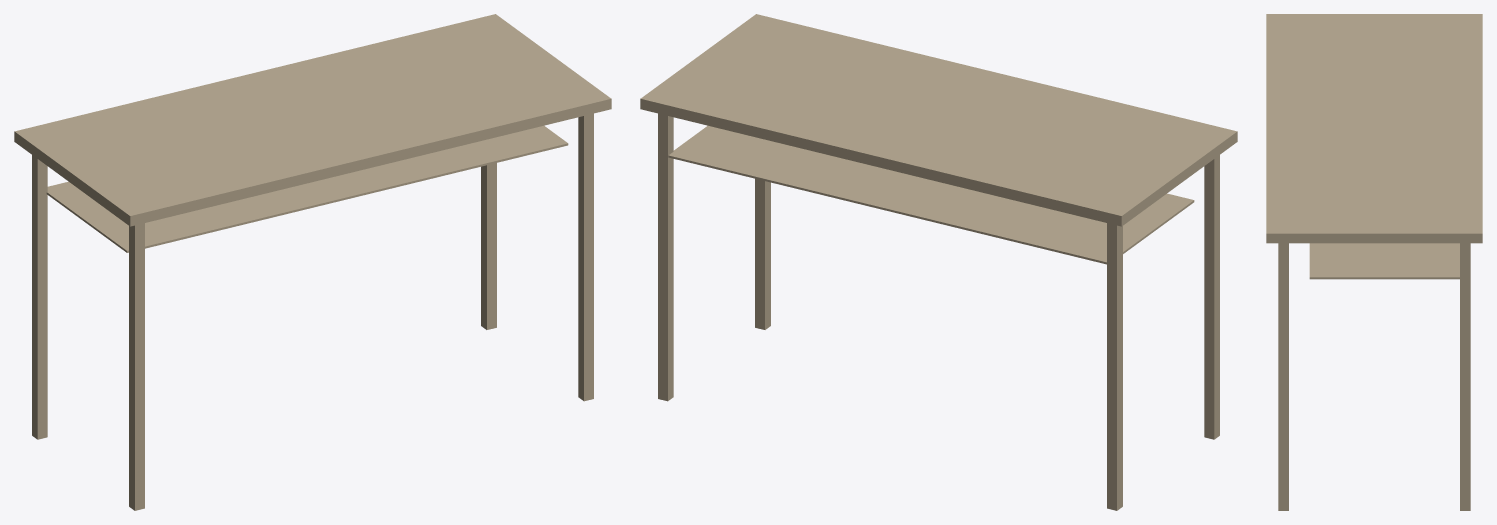
Rendered from desk-lod1.glb.
3 renders of one model, left to right at view 1: azimuth 30°, elevation 25°; view 2: azimuth 150°, elevation 25°; view 3: azimuth 270°, elevation 25°, orthographic. The views are drawn at different scales.
Visible parts, largest first — view 1: desk-lod1; view 2: desk-lod1; view 3: desk-lod1.
Boxes of the visible parts, box(x1,y1,x2,y2) form: desk-lod1: box(14, 14, 611, 510); desk-lod1: box(640, 14, 1237, 510); desk-lod1: box(1266, 14, 1482, 510).
Bounding box in the file's own units: 1.2 × 0.72 × 0.5.
